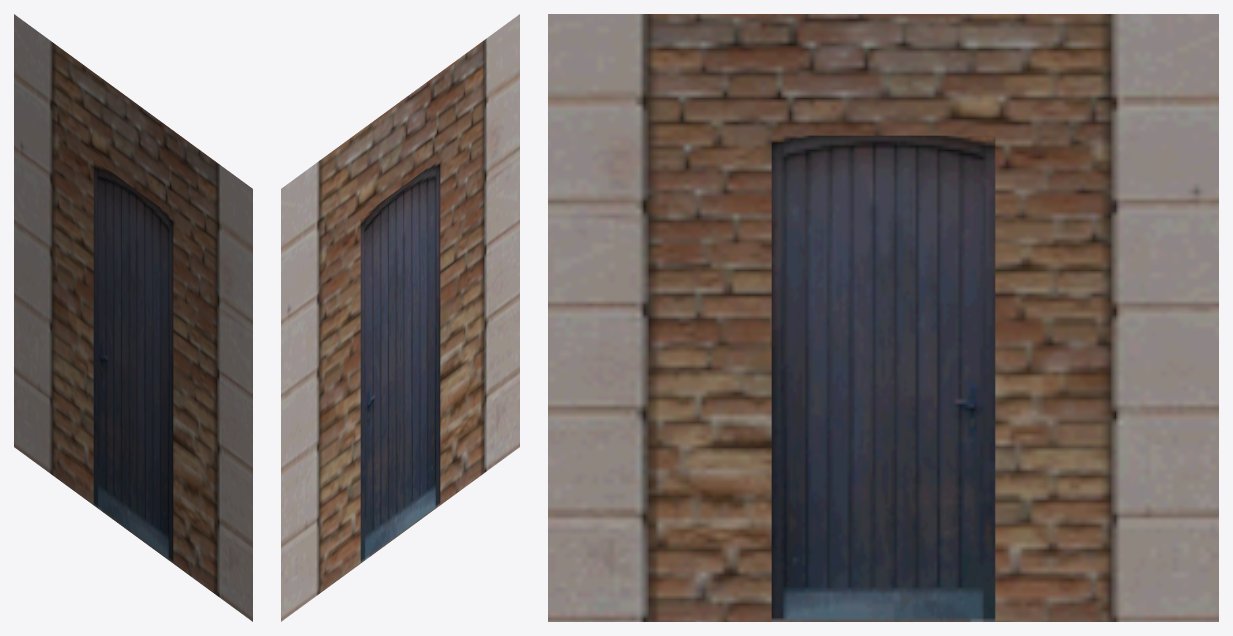
Rendered from Urban_FancyBrickWallDoor_Model.fbx.
3 views of the same model, side by side, from view 1: azimuth 30°, elevation 25°; view 2: azimuth 150°, elevation 25°; view 3: azimuth 270°, elevation 25° (orthographic). The views are drawn at different scales.
Parts seen in each view (by area): view 1: Urban_FancyBrickWallDoor_Mesh; view 2: Urban_FancyBrickWallDoor_Mesh; view 3: Urban_FancyBrickWallDoor_Mesh.
Boxes of the visible parts, x1,y1,x2,y2 form: Urban_FancyBrickWallDoor_Mesh: (14, 14, 252, 621); Urban_FancyBrickWallDoor_Mesh: (281, 14, 519, 621); Urban_FancyBrickWallDoor_Mesh: (548, 14, 1218, 621).
Bounding box in the file's own units: 0 × 2.1 × 2.1.
